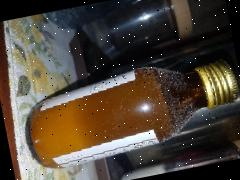glass: (81, 0, 224, 170)
